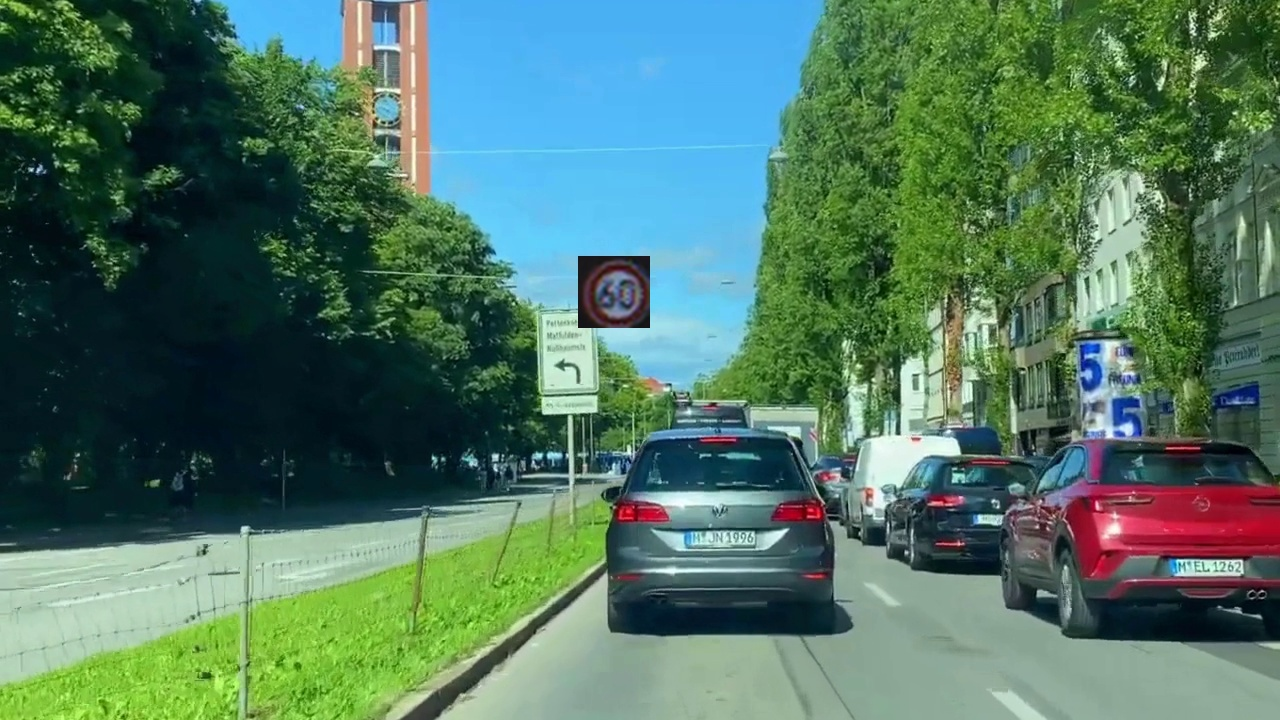Speed 60: (578, 256, 650, 328)
